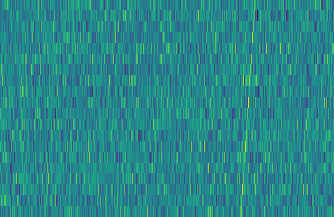signal: (237, 0, 261, 217)
